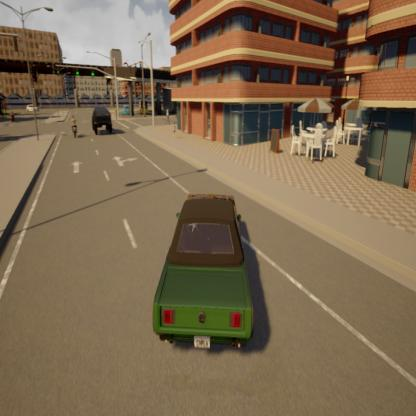Cars: (146, 184, 260, 362), (90, 102, 114, 138)
Pedestrian: (164, 104, 172, 128)
